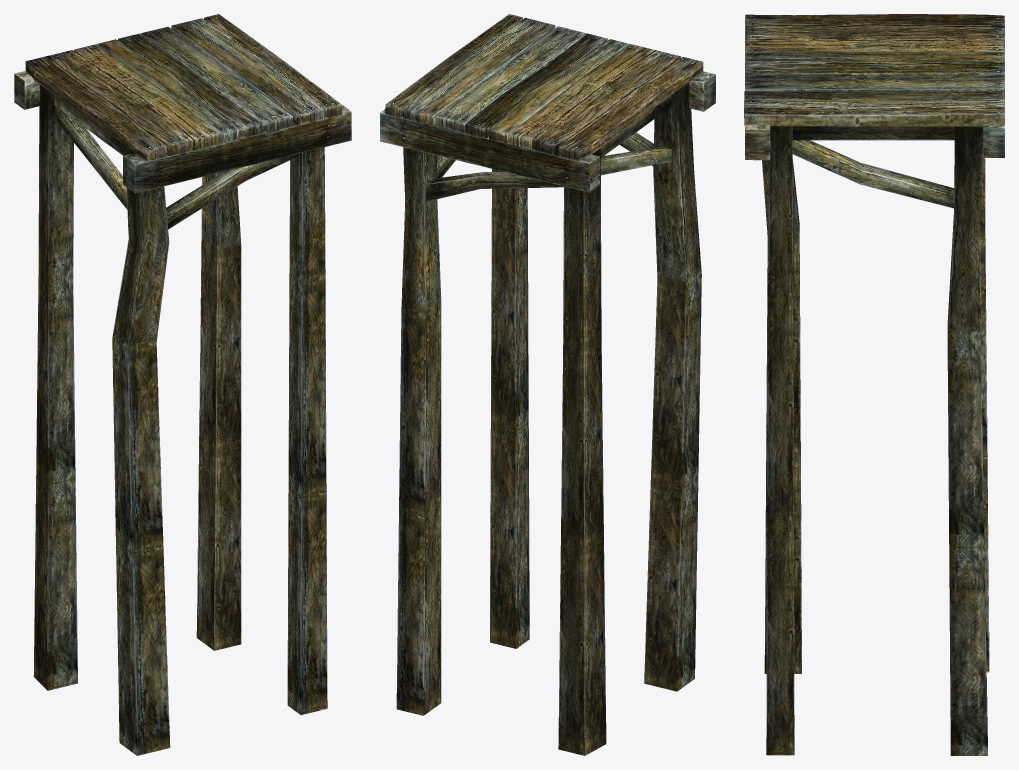
The model's file is most_5.glb.
3 renders of one model, left to right at view 1: azimuth 30°, elevation 25°; view 2: azimuth 150°, elevation 25°; view 3: azimuth 270°, elevation 25°, orthographic. The views are drawn at different scales.
Visible parts, largest first — view 1: most_5; view 2: most_5; view 3: most_5.
Part boxes in pixels (x1,y1,x2,y2): most_5: (14, 14, 351, 755); most_5: (380, 14, 715, 755); most_5: (744, 14, 1004, 755).
Size of the model in its own units: 4.46 by 12.03 by 4.42.
5 materials, 5 textured.
